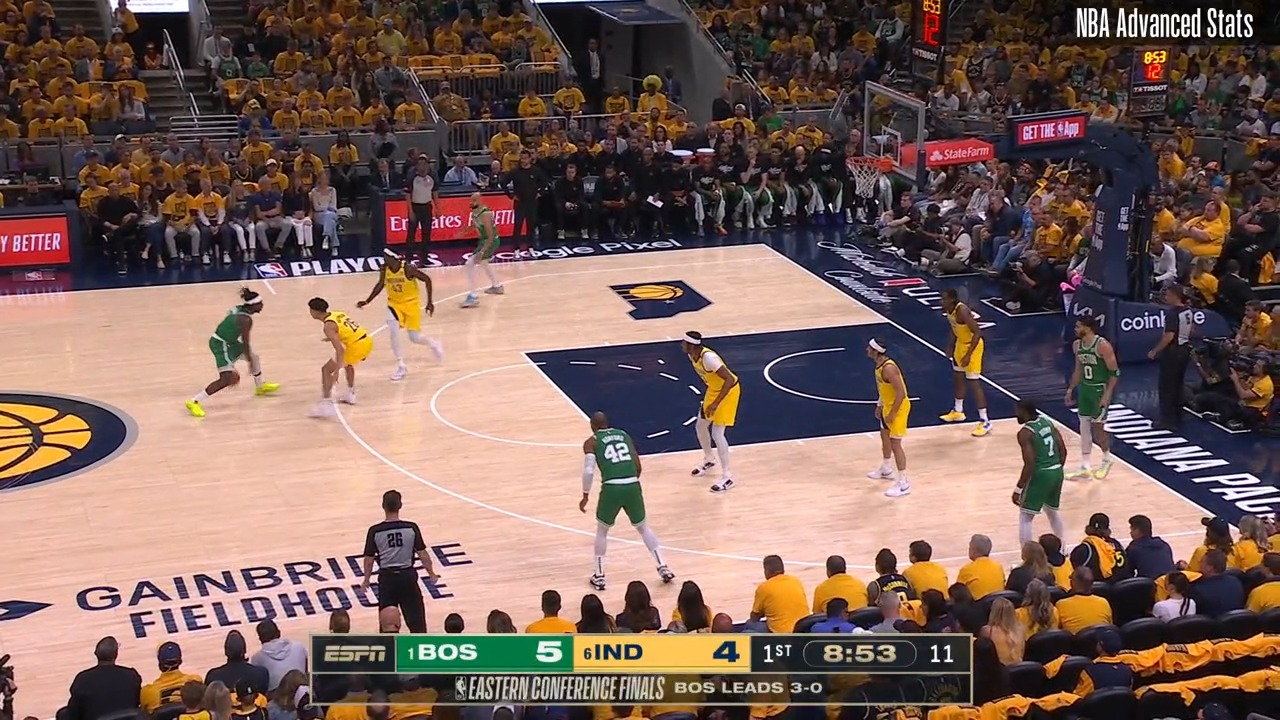basketball: (215, 365, 245, 389)
